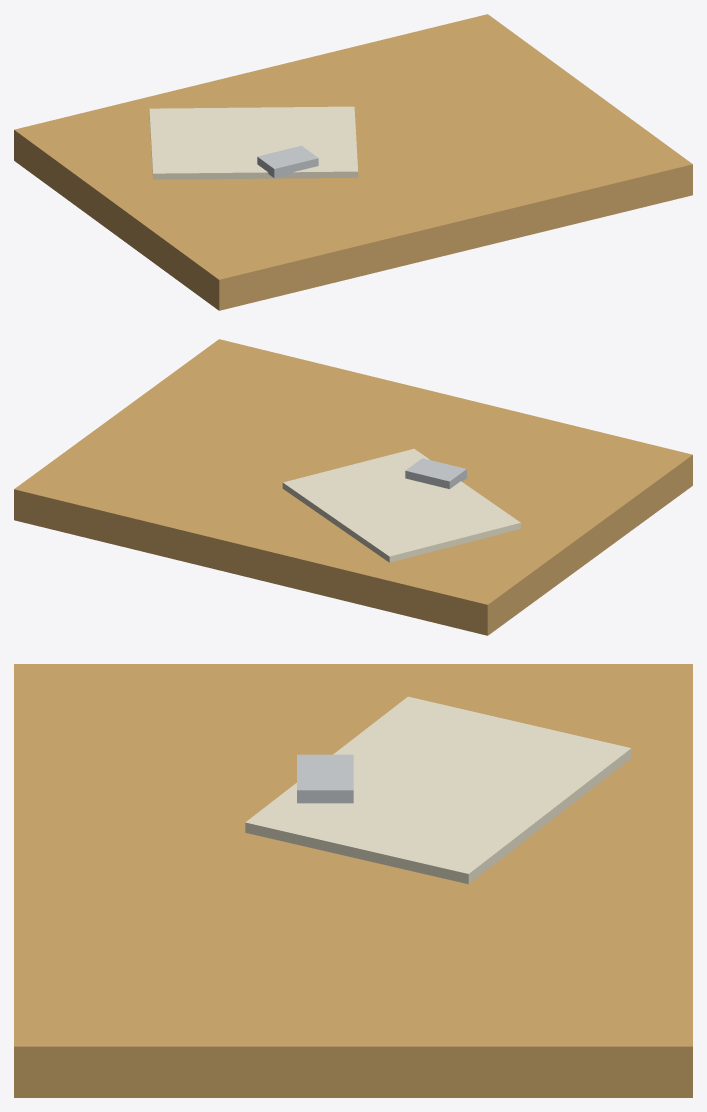
The model's file is case_folder.glb.
3 views of the same model, one above another, from view 1: azimuth 30°, elevation 25°; view 2: azimuth 150°, elevation 25°; view 3: azimuth 270°, elevation 25° (orthographic). The views are drawn at different scales.
Parts seen in each view (by area): view 1: folder_int_folder, photo_int_photo, clip_int_chrome; view 2: folder_int_folder, photo_int_photo, clip_int_chrome; view 3: folder_int_folder, photo_int_photo, clip_int_chrome.
Part boxes in pixels (x1,y1,x2,y2): folder_int_folder: [14, 14, 692, 310]; photo_int_photo: [149, 106, 358, 179]; clip_int_chrome: [257, 145, 318, 178]; folder_int_folder: [14, 339, 692, 635]; photo_int_photo: [282, 449, 520, 562]; clip_int_chrome: [405, 458, 466, 489]; folder_int_folder: [14, 664, 692, 1097]; photo_int_photo: [245, 696, 631, 884]; clip_int_chrome: [297, 754, 353, 803].
Size of the model in its own units: 0.32 by 0.029 by 0.24.
